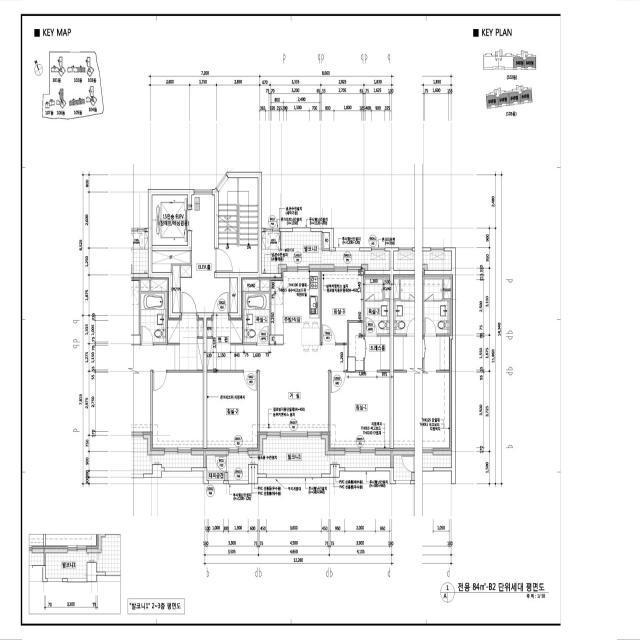space_balconi: (228, 439, 390, 480), (262, 232, 390, 273)
space_bedroom: (329, 373, 390, 450), (207, 372, 259, 450), (322, 269, 363, 343)
space_dressroom: (349, 323, 390, 370)
space_elevator: (152, 195, 188, 245)
space_elevator_hall: (181, 195, 229, 313)
space_front: (207, 316, 242, 370)
space_kitchen: (271, 269, 320, 345)
space_living_room: (235, 345, 347, 434)
space_other: (172, 266, 191, 312), (152, 251, 190, 272), (207, 455, 225, 480), (230, 278, 238, 313), (242, 278, 259, 291), (384, 279, 390, 298), (261, 278, 269, 291), (323, 233, 329, 248), (207, 318, 211, 337)
space_staircase: (219, 178, 258, 272)
space_toilet: (365, 279, 390, 334), (244, 293, 269, 343)
